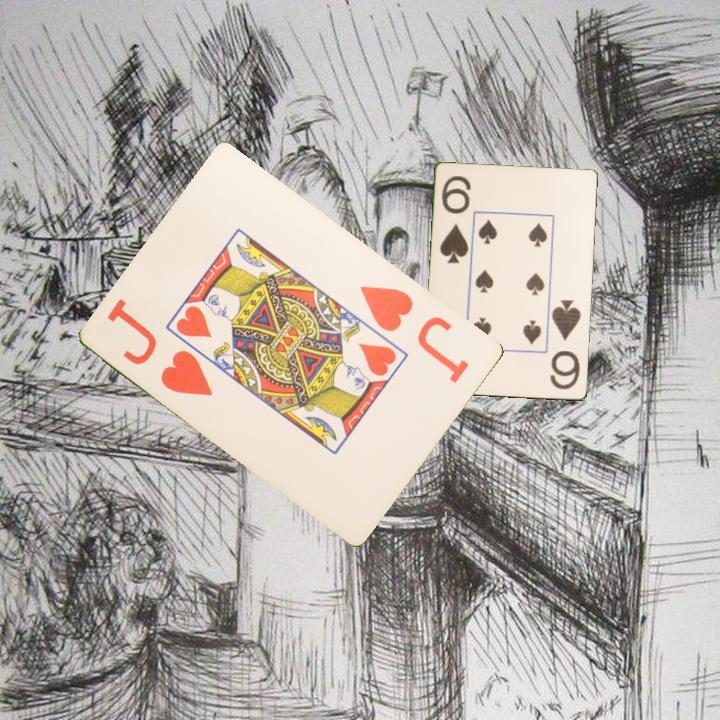6s: (436, 172, 474, 267), (547, 297, 584, 393)
Jh: (356, 281, 473, 386), (157, 346, 217, 400)
